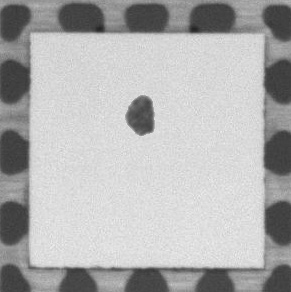DIE_INK: (122, 92, 155, 138)
